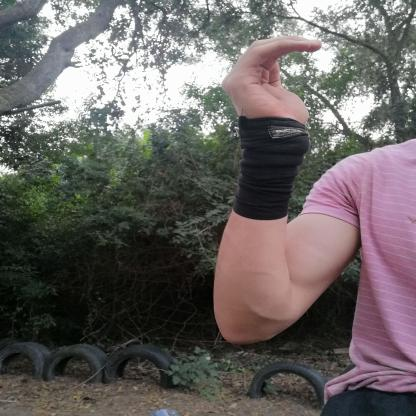HAA: (202, 22, 342, 154)
